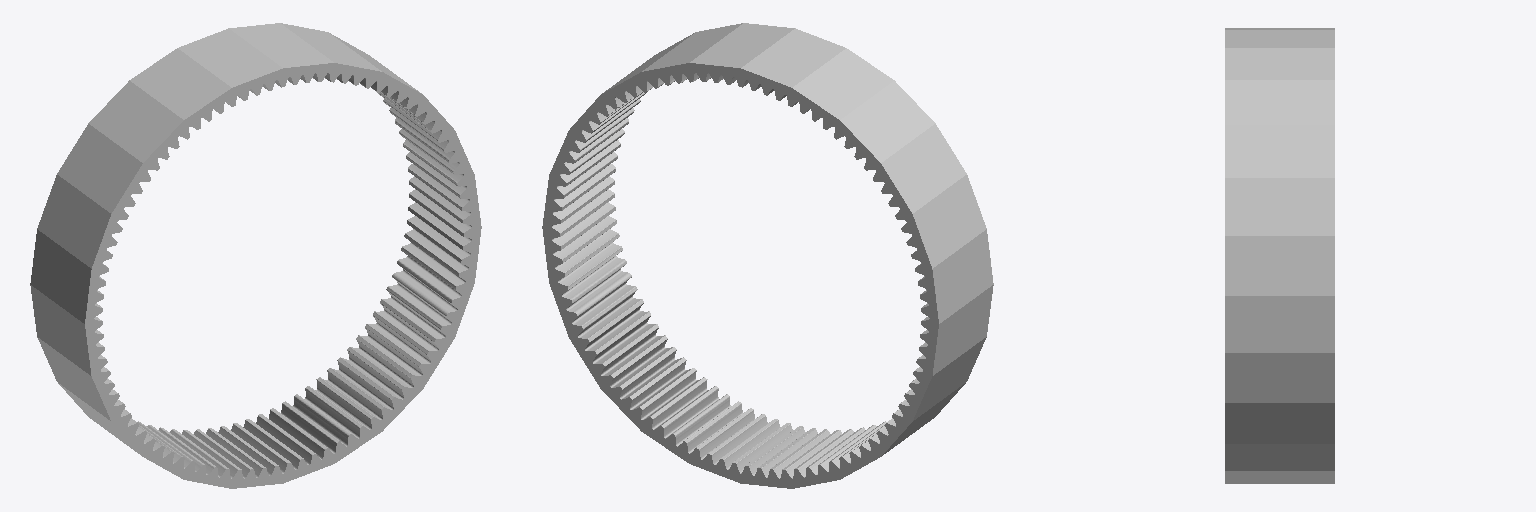
The model's file is ring.obj.
3 renders of one model, left to right at view 1: azimuth 30°, elevation 25°; view 2: azimuth 150°, elevation 25°; view 3: azimuth 270°, elevation 25°, orthographic.
Parts seen in each view (by area): view 1: 1; view 2: 1; view 3: 1.
Boxes of the visible parts, x1,y1,x2,y2 form: 1: [30, 23, 481, 488]; 1: [542, 23, 993, 488]; 1: [1225, 28, 1334, 483].
Size of the model in its own units: 1000 by 1000 by 238.